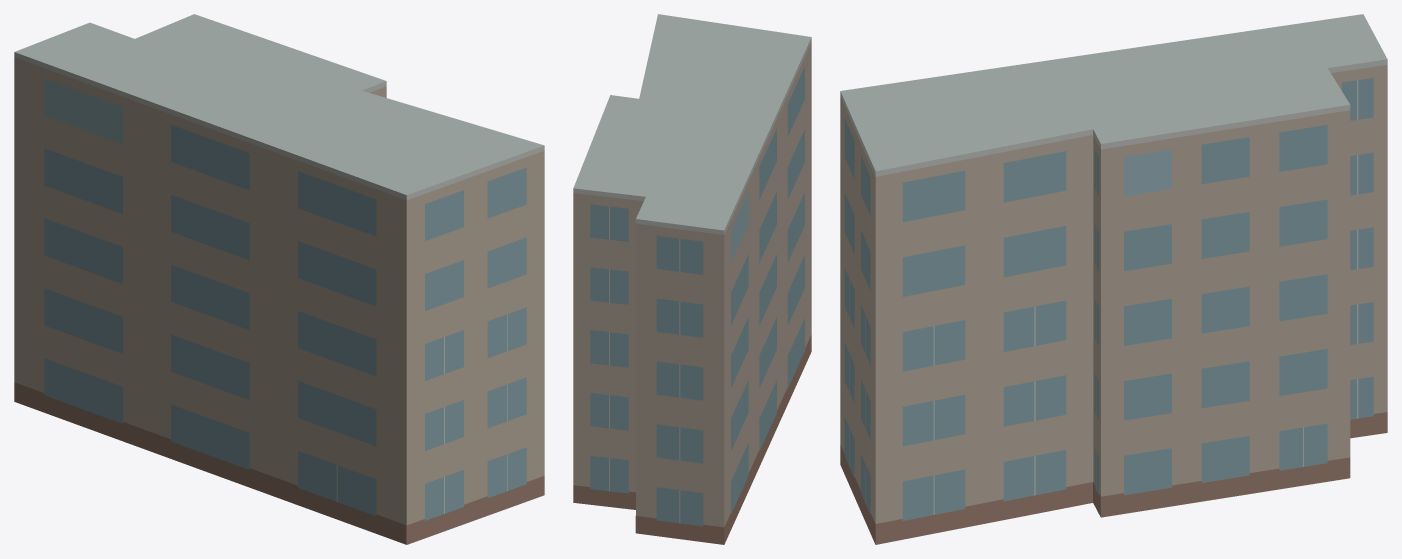
Rendered from survey-upis-32808568.glb.
3 renders of one model, left to right at view 1: azimuth 30°, elevation 25°; view 2: azimuth 150°, elevation 25°; view 3: azimuth 270°, elevation 25°, orthographic. The views are drawn at different scales.
Parts seen in each view (by area): view 1: survey-upis-32808568.tmp; view 2: survey-upis-32808568.tmp; view 3: survey-upis-32808568.tmp.
Boxes of the visible parts, <box> form: survey-upis-32808568.tmp: <box>14,14,544,544</box>; survey-upis-32808568.tmp: <box>573,14,811,544</box>; survey-upis-32808568.tmp: <box>840,14,1387,544</box>.
Size of the model in its own units: 15.02 by 16.6 by 22.06.
